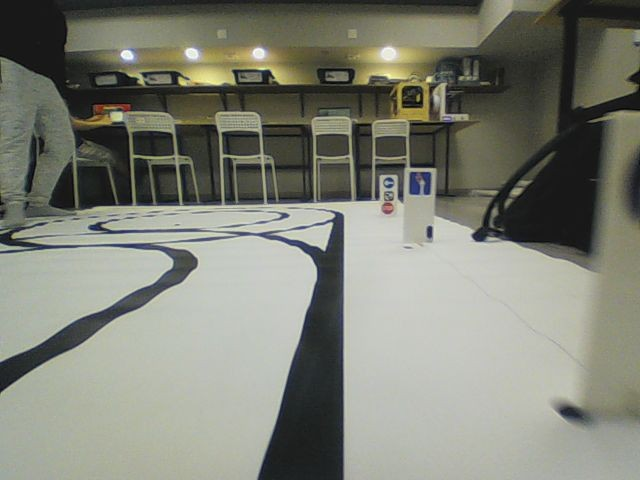priority_movement: (408, 170, 432, 196)
